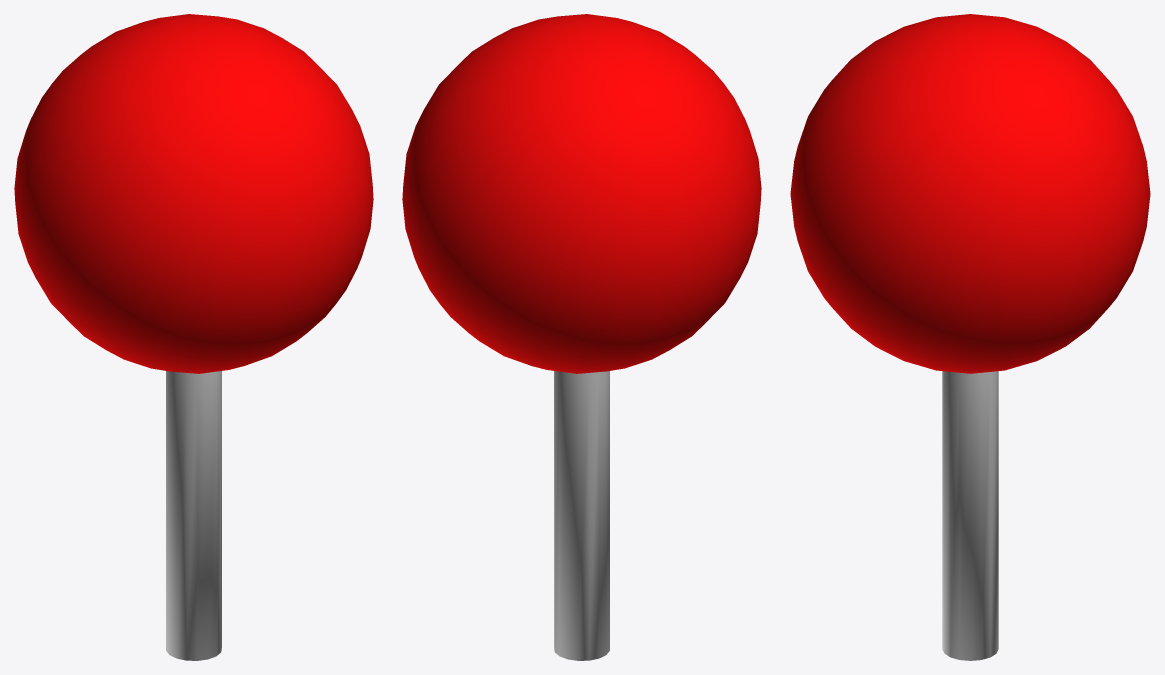
The model's file is red.glb.
3 renders of one model, left to right at view 1: azimuth 30°, elevation 25°; view 2: azimuth 150°, elevation 25°; view 3: azimuth 270°, elevation 25°, orthographic.
Parts seen in each view (by area): view 1: Red; view 2: Red; view 3: Red.
Part boxes in pixels (box(x1,y1,x2,y2)): Red: box(14, 14, 373, 660); Red: box(402, 14, 761, 660); Red: box(790, 14, 1150, 660).
Size of the model in its own units: 0.3764 by 0.7133 by 0.3764.
